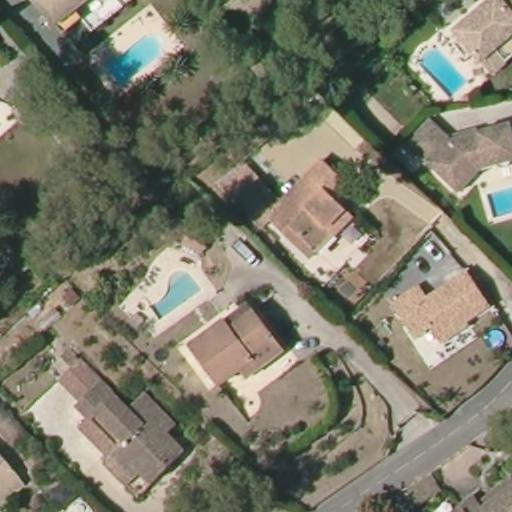pool: (93, 29, 169, 93), (143, 267, 203, 321), (413, 46, 468, 97), (480, 184, 511, 219), (480, 324, 511, 350)
